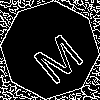M: (25, 25, 86, 87)
